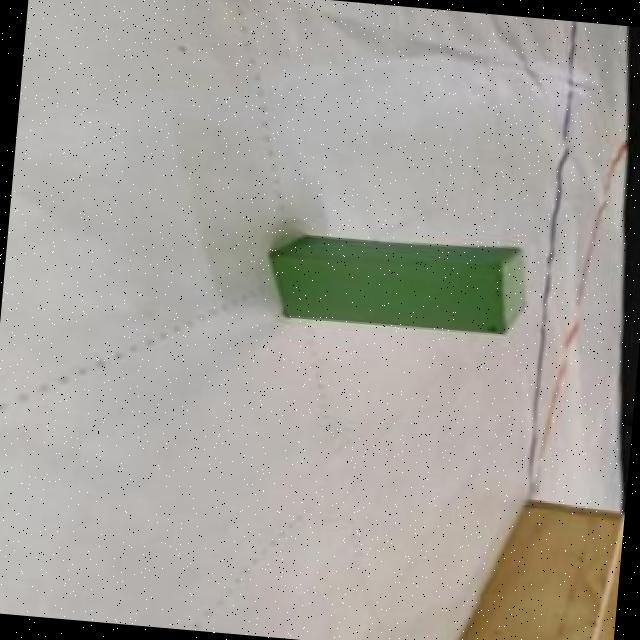greenbox: (262, 222, 533, 341)
